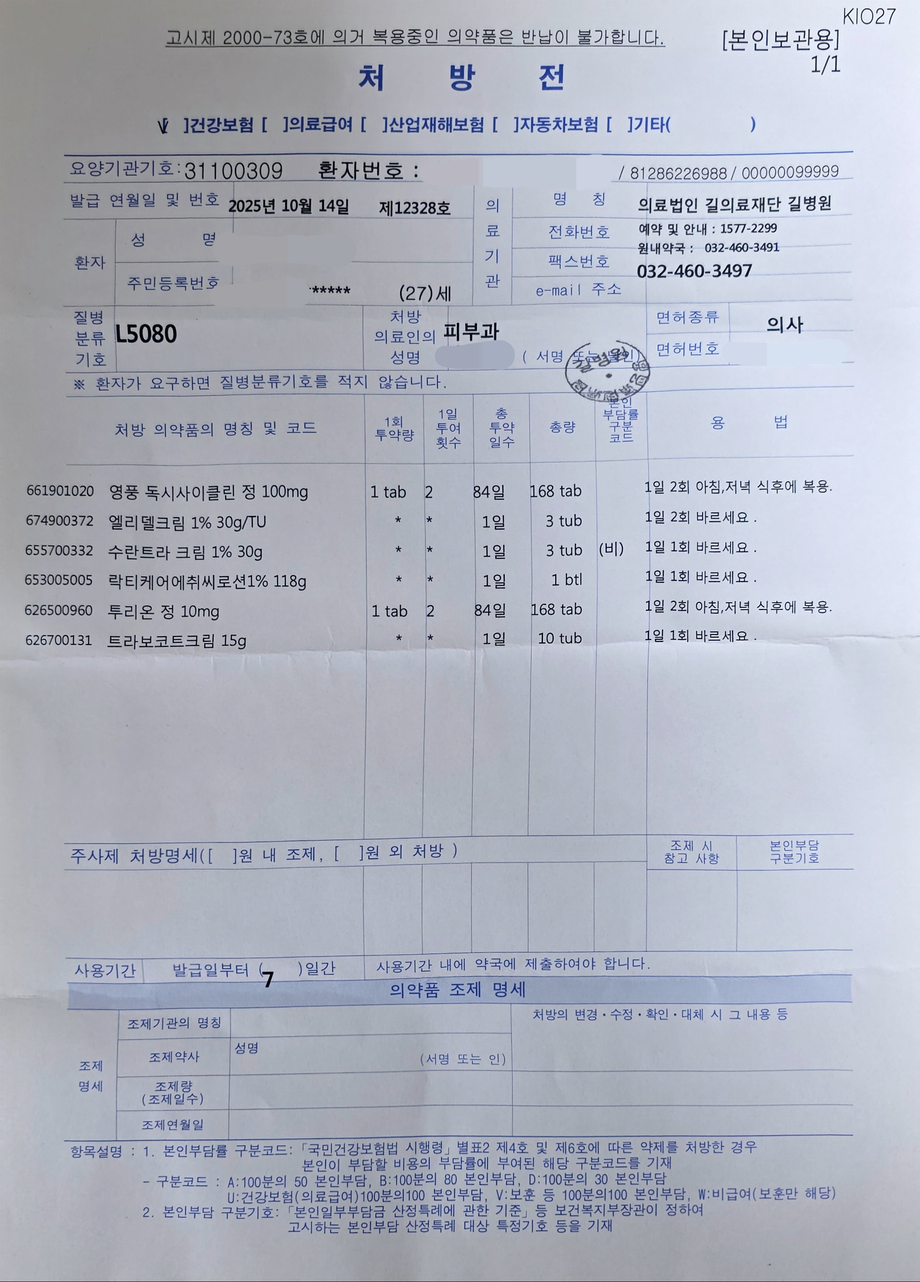row: (58, 982, 530, 1139), (60, 50, 779, 147), (54, 399, 860, 458), (533, 995, 852, 1133), (473, 191, 849, 305), (58, 222, 461, 312), (12, 471, 875, 504), (10, 591, 852, 624), (9, 505, 875, 535), (9, 625, 852, 655), (10, 537, 869, 565), (10, 564, 867, 592), (57, 369, 854, 396), (57, 841, 851, 867), (55, 306, 364, 371), (308, 153, 847, 189), (58, 955, 663, 986), (365, 306, 644, 373), (644, 303, 852, 369), (57, 191, 460, 221), (57, 152, 299, 183)
